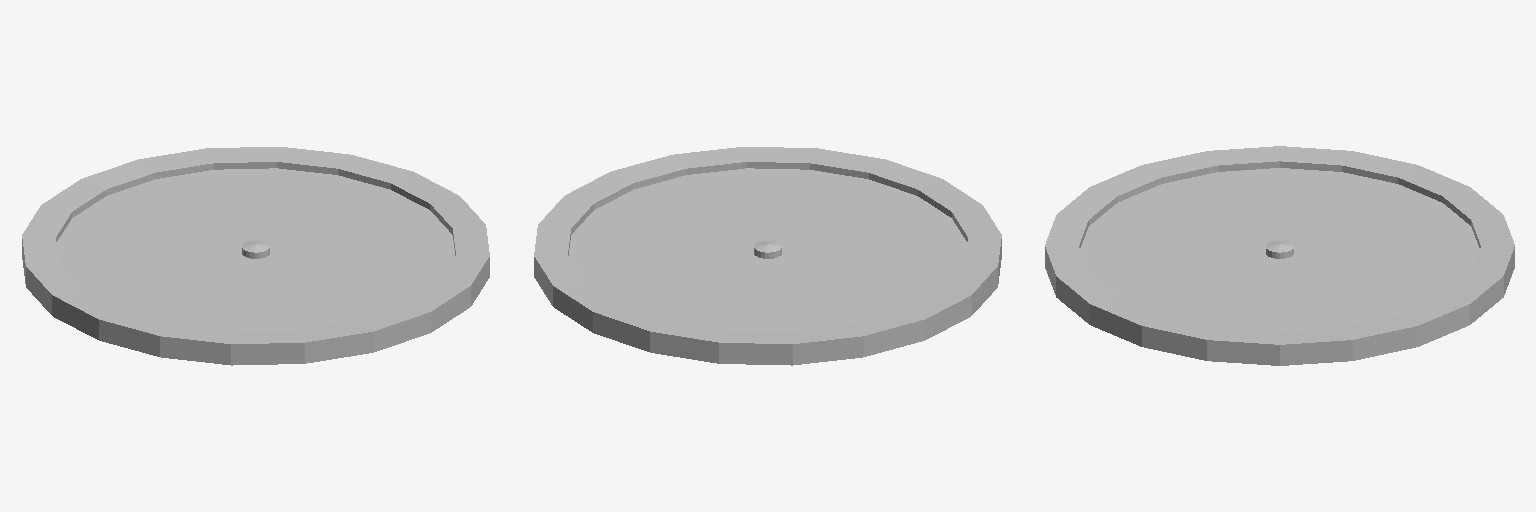
File: Tomato.obj
3 renders of one model, left to right at view 1: azimuth 30°, elevation 25°; view 2: azimuth 150°, elevation 25°; view 3: azimuth 270°, elevation 25°, orthographic.
Visible parts, largest first — view 1: Tomato_Sphere.006; view 2: Tomato_Sphere.006; view 3: Tomato_Sphere.006.
Boxes of the visible parts, box(x1,y1,x2,y2) form: Tomato_Sphere.006: box(22, 147, 489, 365); Tomato_Sphere.006: box(534, 147, 1001, 365); Tomato_Sphere.006: box(1045, 146, 1514, 365).
Size of the model in its own units: 1.03 by 0.0564 by 1.03.